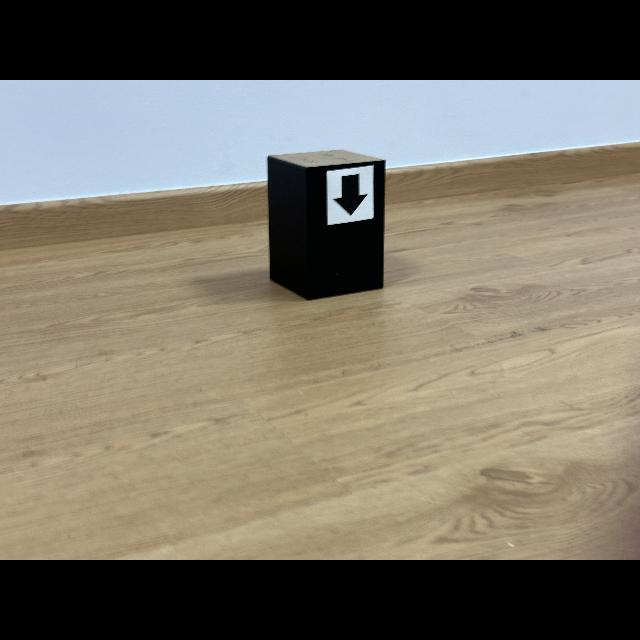DOWN: (334, 174, 368, 215)
